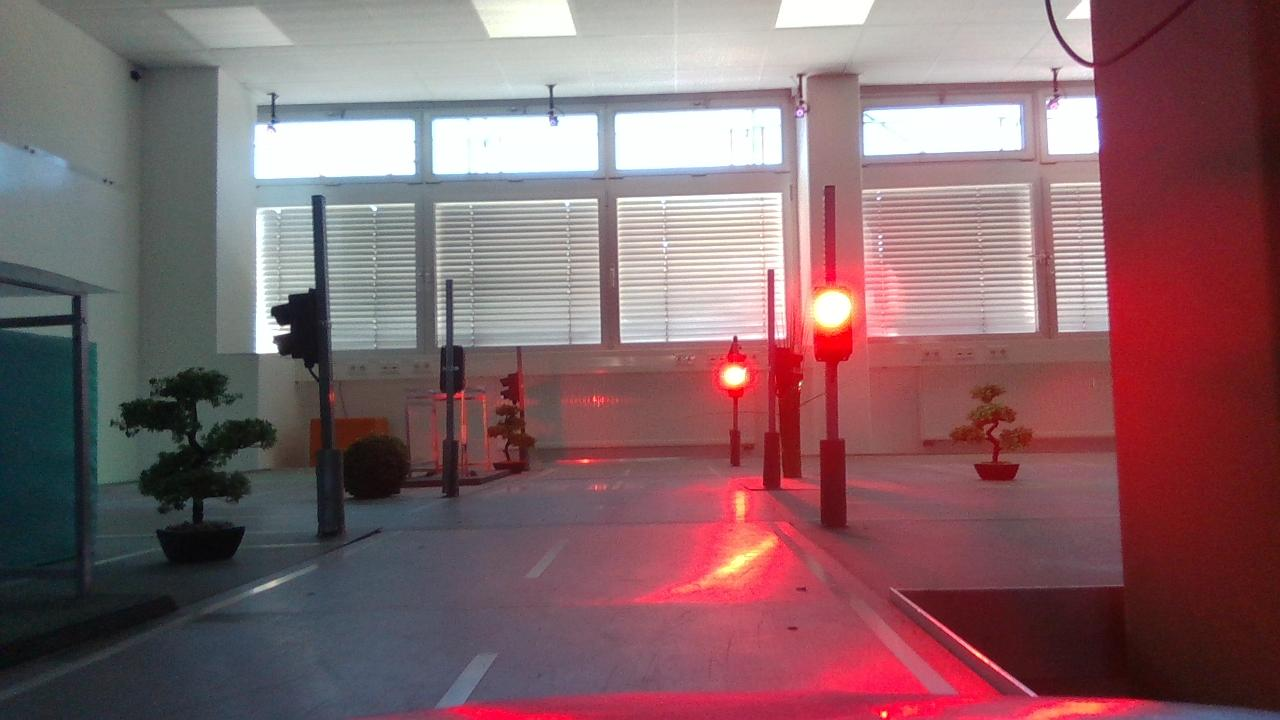traffic_light_red: (799, 275, 871, 370)
